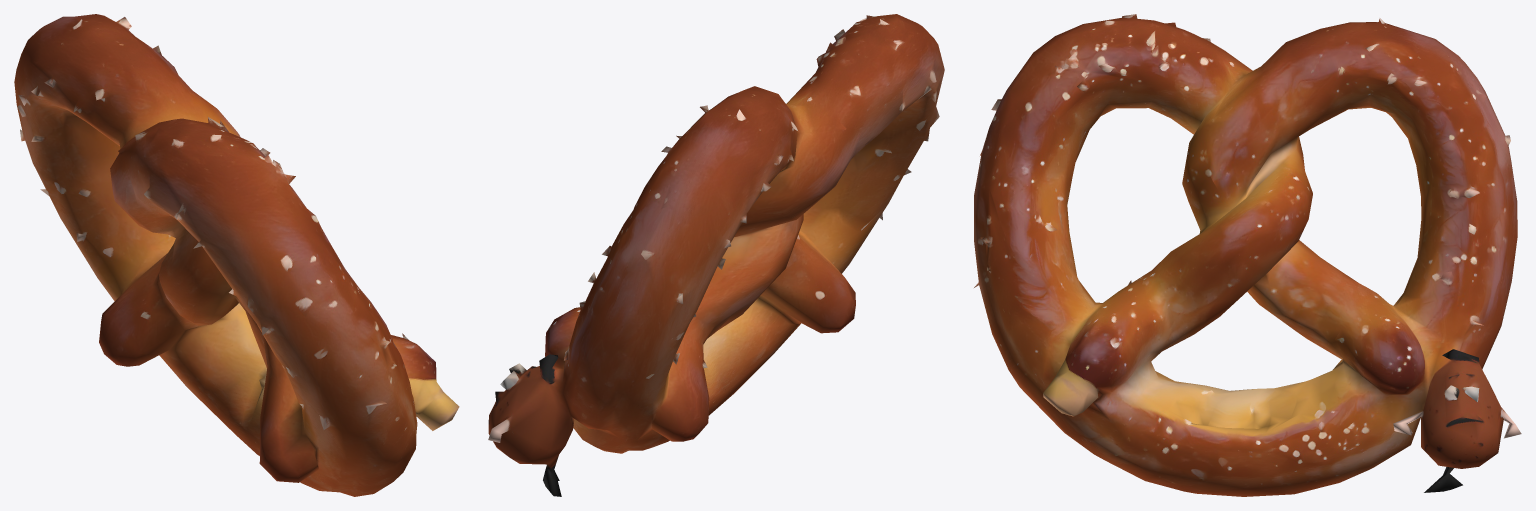
File: snackPretzel.glb
3 views of the same model, side by side, from view 1: azimuth 30°, elevation 25°; view 2: azimuth 150°, elevation 25°; view 3: azimuth 270°, elevation 25° (orthographic). The views are drawn at different scales.
Visible parts, largest first — view 1: tripo_node_d2df04bf-58de-4fa2-822f-31ad37038094; view 2: tripo_node_d2df04bf-58de-4fa2-822f-31ad37038094; view 3: tripo_node_d2df04bf-58de-4fa2-822f-31ad37038094.
Boxes of the visible parts, x1,y1,x2,y2 form: tripo_node_d2df04bf-58de-4fa2-822f-31ad37038094: (14,14,459,496); tripo_node_d2df04bf-58de-4fa2-822f-31ad37038094: (488,14,944,496); tripo_node_d2df04bf-58de-4fa2-822f-31ad37038094: (974,14,1521,496).
Bounding box in the file's own units: 0.5417 × 0.7944 × 0.9779.
Materials: 1 (1 with a texture image).
